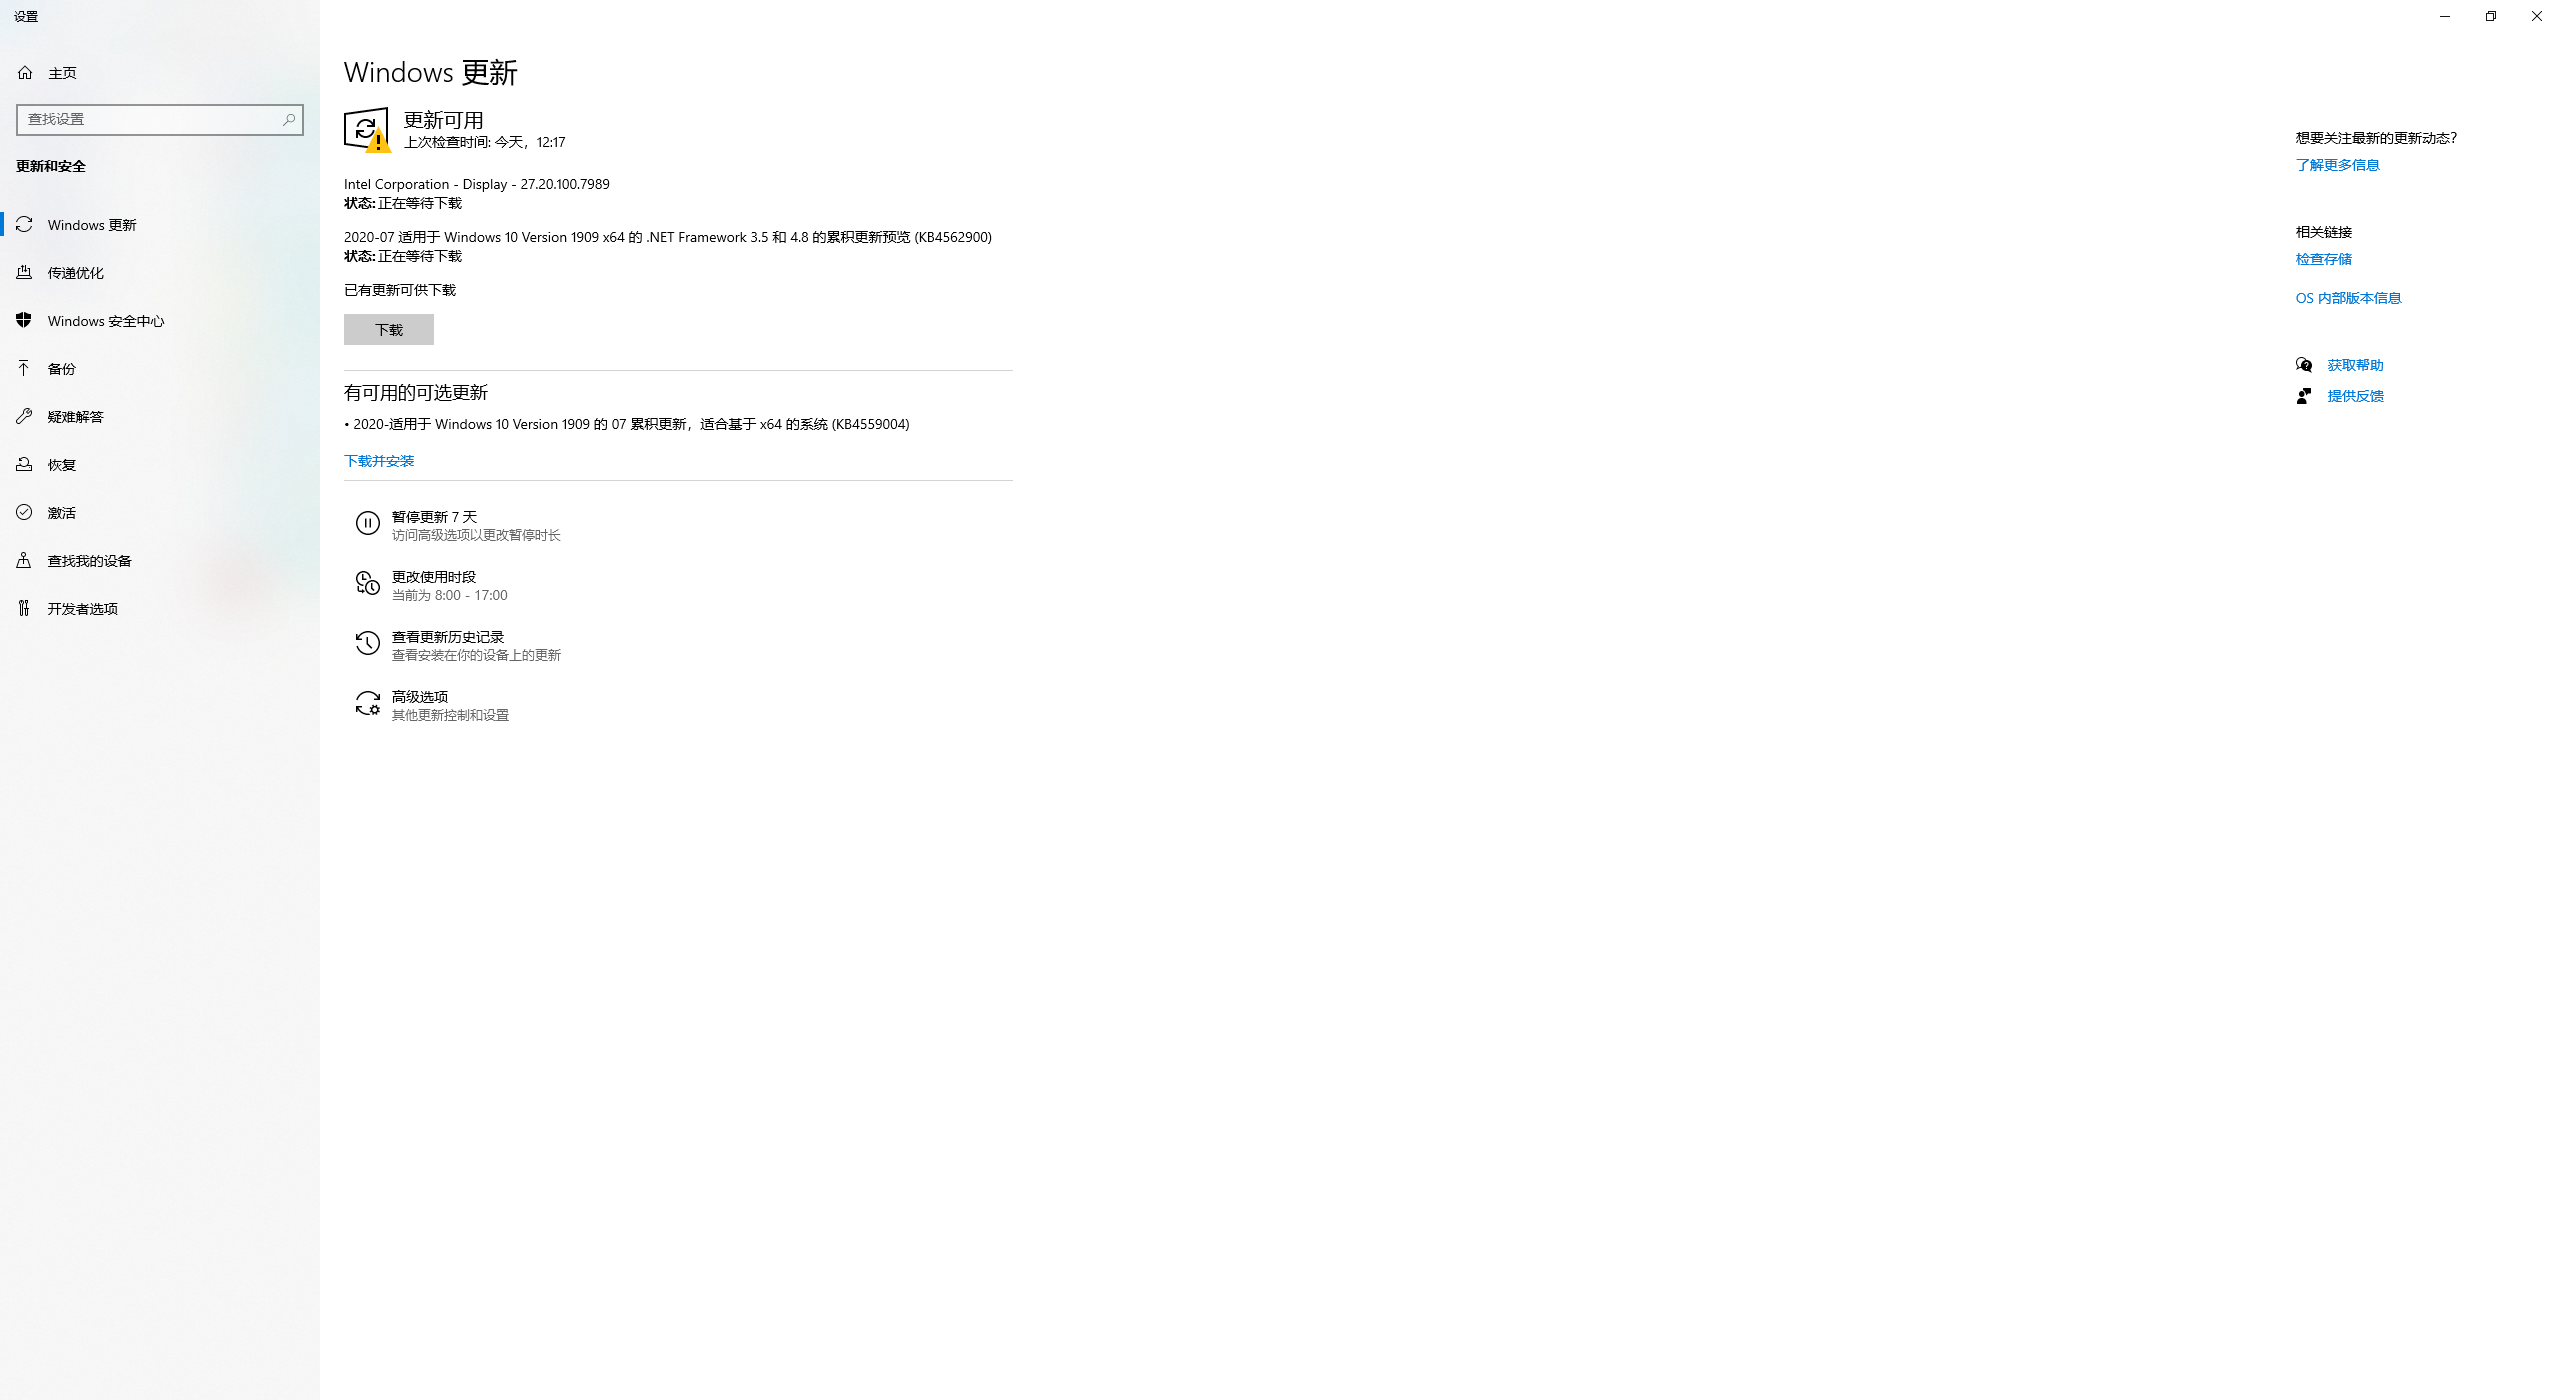character: (341, 226, 1015, 267), (353, 414, 914, 433), (340, 176, 622, 212), (390, 624, 567, 666), (402, 109, 576, 150), (391, 505, 571, 541), (340, 55, 524, 88), (391, 564, 514, 603), (390, 686, 522, 722), (2295, 128, 2465, 148), (345, 381, 491, 403), (45, 309, 171, 333), (340, 281, 464, 300), (45, 212, 145, 234), (2295, 291, 2415, 309), (12, 153, 102, 176), (2296, 152, 2381, 174), (47, 598, 128, 619), (45, 405, 109, 428), (45, 553, 134, 569), (341, 452, 419, 469), (2295, 247, 2353, 267), (47, 264, 110, 283), (28, 109, 88, 128), (2295, 222, 2353, 241), (45, 450, 83, 479), (2326, 386, 2384, 403), (2326, 355, 2382, 372), (45, 355, 83, 381), (45, 502, 88, 524), (371, 317, 407, 340), (10, 5, 45, 22), (45, 64, 79, 79), (353, 702, 381, 717)
icon: (343, 105, 390, 153), (353, 569, 381, 597), (353, 629, 381, 655), (353, 509, 379, 534), (7, 264, 38, 283), (14, 597, 36, 617), (353, 690, 381, 705), (14, 214, 33, 233), (14, 309, 31, 329), (16, 405, 33, 424), (2295, 386, 2313, 403), (14, 503, 33, 521), (2295, 355, 2312, 372), (2527, 7, 2544, 22), (16, 455, 33, 471), (17, 64, 33, 79), (16, 552, 31, 567), (283, 110, 297, 126), (2482, 9, 2498, 22), (2438, 9, 2451, 22), (17, 359, 28, 376), (345, 417, 350, 429)
